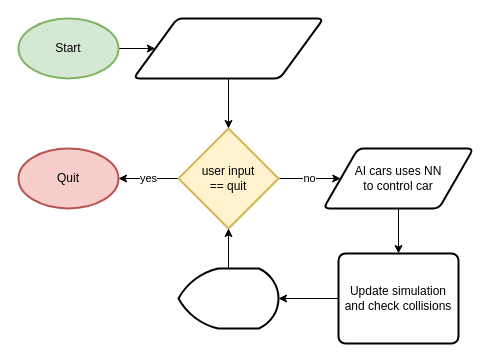
This 491x361 diagram has some shape labels left out. The box of each missing label's shape, as (x1, y1, x2, y2) in pixels:
Draw to screen: (177, 267, 279, 329)
Initialize simulation with cars, AI and circuit: (132, 17, 324, 79)
